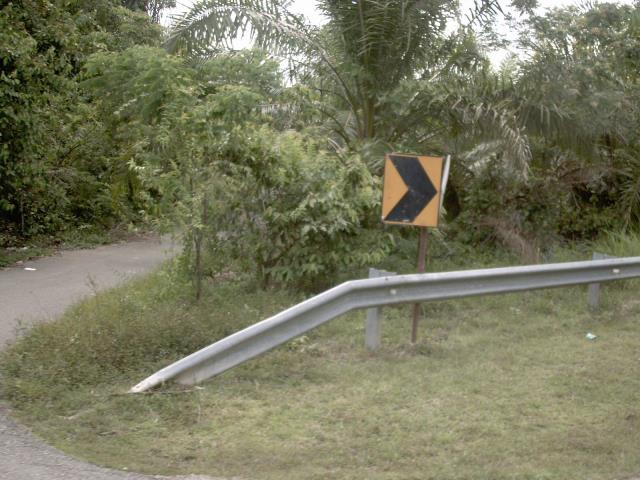traffic_sign: (369, 136, 453, 240)
